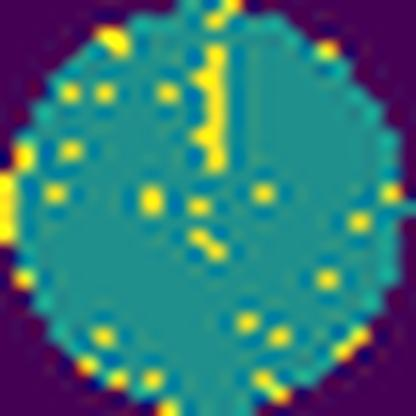Scratch: (185, 40, 235, 178)
